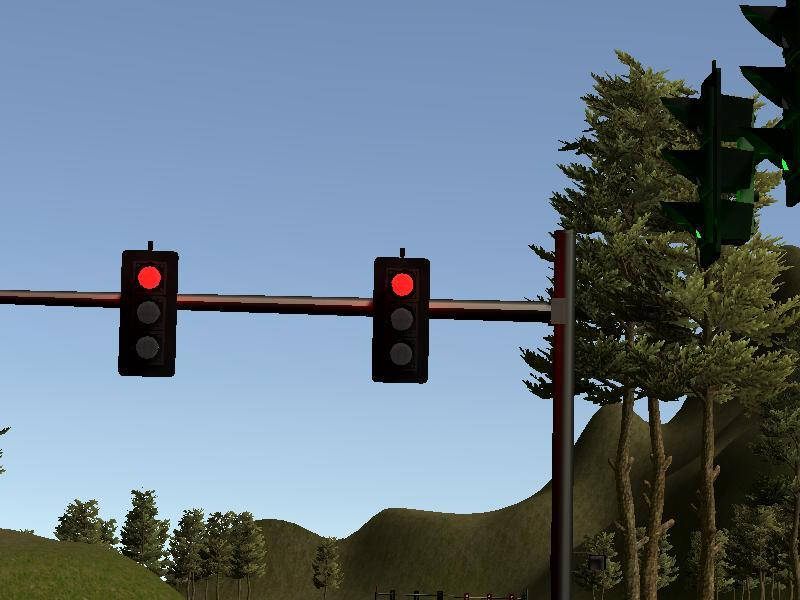Red: (120, 250, 174, 375), (374, 257, 426, 383)
